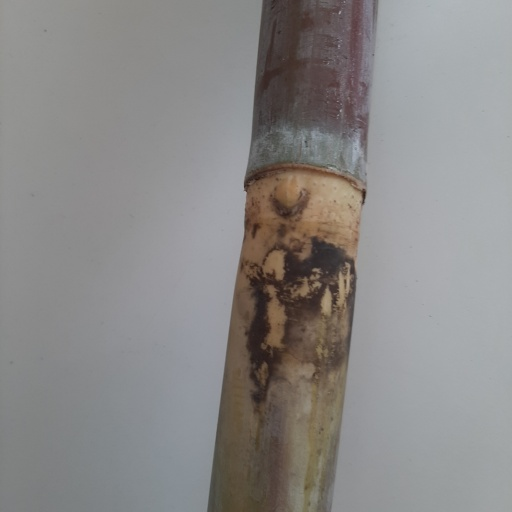Bud: (273, 173, 308, 215)
